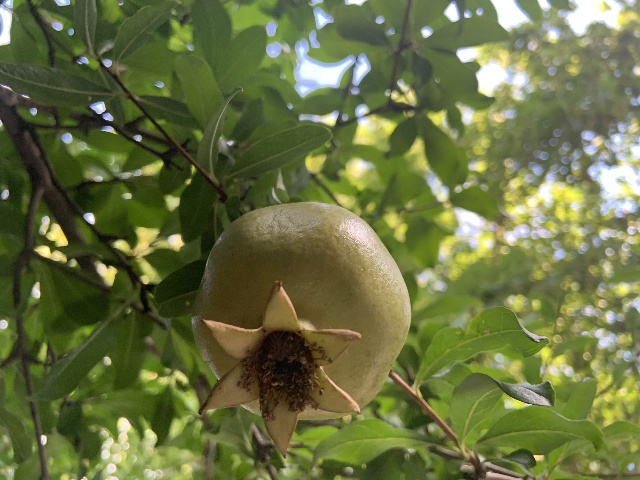mid-growth: (193, 201, 412, 460)
